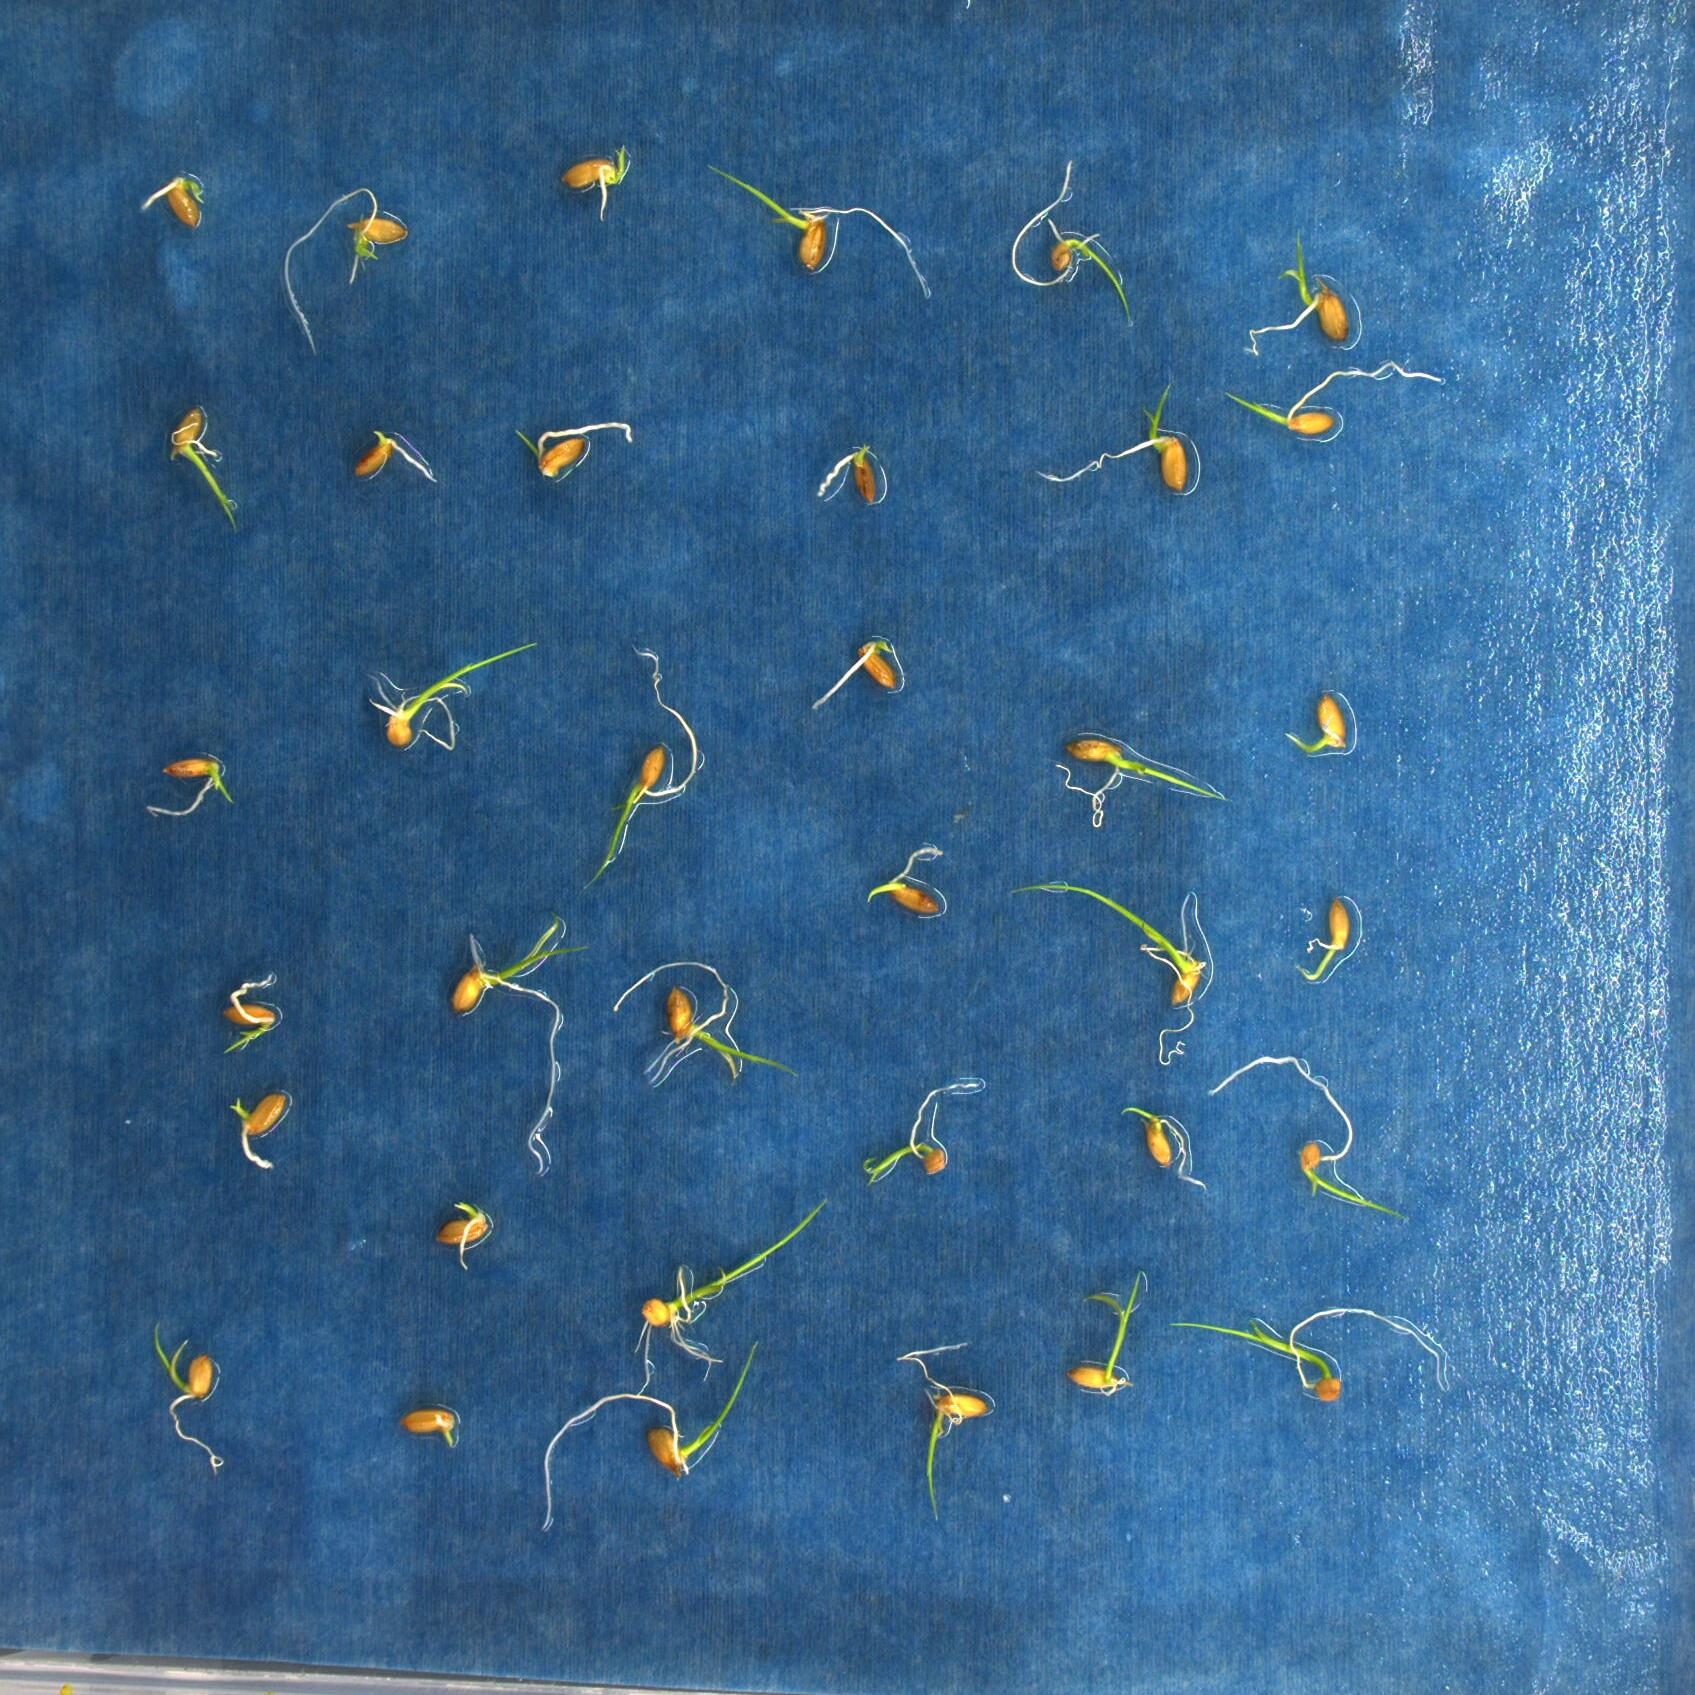not sprout: (349, 427, 438, 487), (809, 441, 886, 504), (230, 1091, 289, 1170), (402, 1409, 458, 1450)
sprout: (542, 1336, 759, 1532), (632, 1198, 827, 1402), (1012, 882, 1215, 1066), (449, 917, 591, 1178), (1208, 1055, 1411, 1223), (706, 161, 933, 301), (581, 644, 702, 894), (1167, 1307, 1454, 1403), (615, 959, 801, 1090), (1007, 160, 1138, 329), (286, 185, 407, 359), (363, 635, 542, 751), (1222, 359, 1448, 438), (1034, 376, 1184, 492), (893, 1340, 989, 1521), (1054, 736, 1228, 830), (1245, 227, 1350, 355), (861, 1082, 984, 1184), (149, 1321, 230, 1476), (1069, 1268, 1152, 1397), (168, 404, 244, 536), (509, 424, 633, 487), (1119, 1105, 1211, 1191), (809, 630, 899, 709), (140, 754, 237, 815), (865, 841, 944, 916), (557, 143, 629, 220), (220, 972, 279, 1055), (1295, 899, 1355, 979), (432, 1198, 490, 1270), (1284, 695, 1350, 757), (137, 172, 203, 231)
